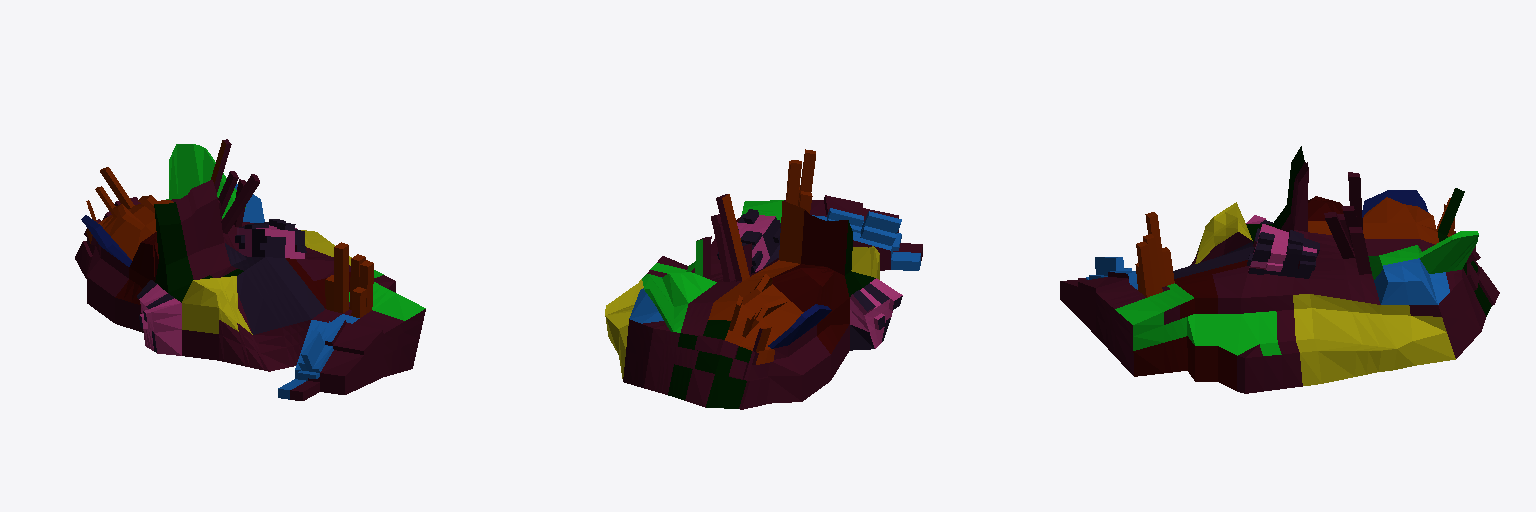
File: coral_reef_base 1.obj
3 renders of one model, left to right at view 1: azimuth 30°, elevation 25°; view 2: azimuth 150°, elevation 25°; view 3: azimuth 270°, elevation 25°, orthographic.
Visible parts, largest first — view 1: Cube; view 2: Cube; view 3: Cube.
Boxes of the visible parts, box(x1,y1,x2,y2) form: Cube: box(75, 139, 425, 400); Cube: box(605, 149, 922, 409); Cube: box(1060, 146, 1499, 393).
Size of the model in its own units: 9.68 by 6.51 by 15.04.